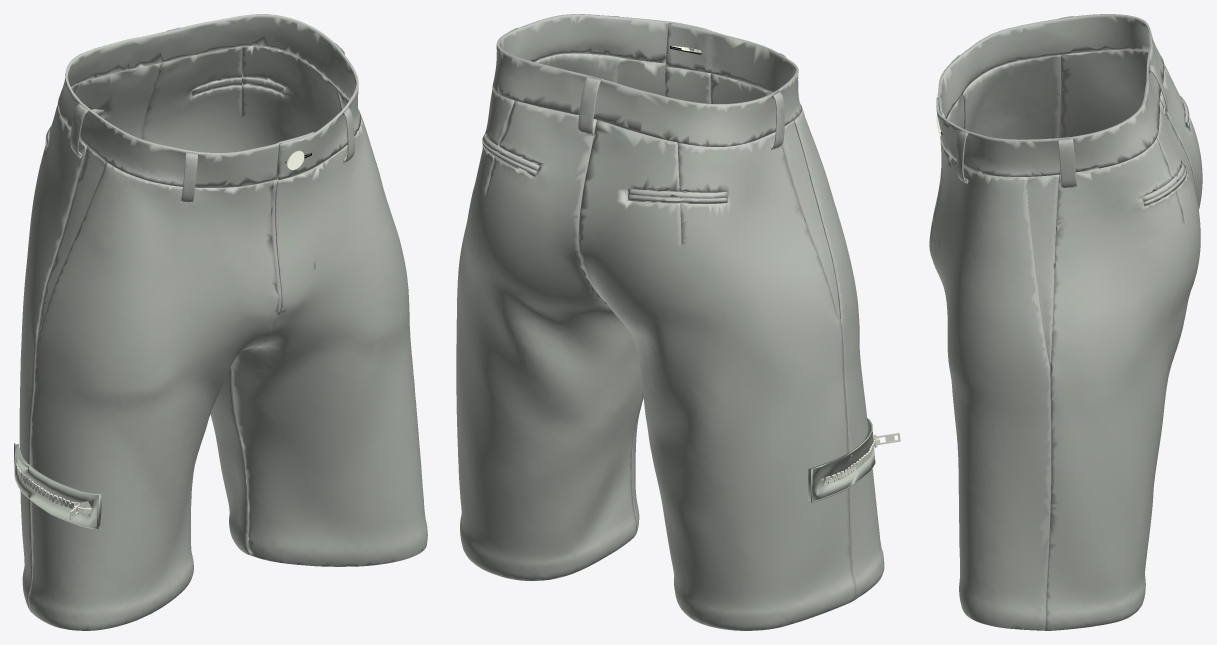
Rendered from women_trouser_with_zip-optimized_1783504218939.glb.
3 views of the same model, side by side, from view 1: azimuth 30°, elevation 25°; view 2: azimuth 150°, elevation 25°; view 3: azimuth 270°, elevation 25° (orthographic). The views are drawn at different scales.
Visible parts, largest first — view 1: Men Suit Short Pant.007, Plane.004; view 2: Men Suit Short Pant.007, Plane.004; view 3: Men Suit Short Pant.007.
Part boxes in pixels (x1,y1,x2,y2): Men Suit Short Pant.007: (19,14,427,630); Plane.004: (14,443,102,528); Men Suit Short Pant.007: (456,14,884,630); Plane.004: (808,418,875,502); Men Suit Short Pant.007: (929,14,1202,630).
Size of the model in its own units: 0.528 by 0.677 by 0.3414.
4 materials, 2 textured.
